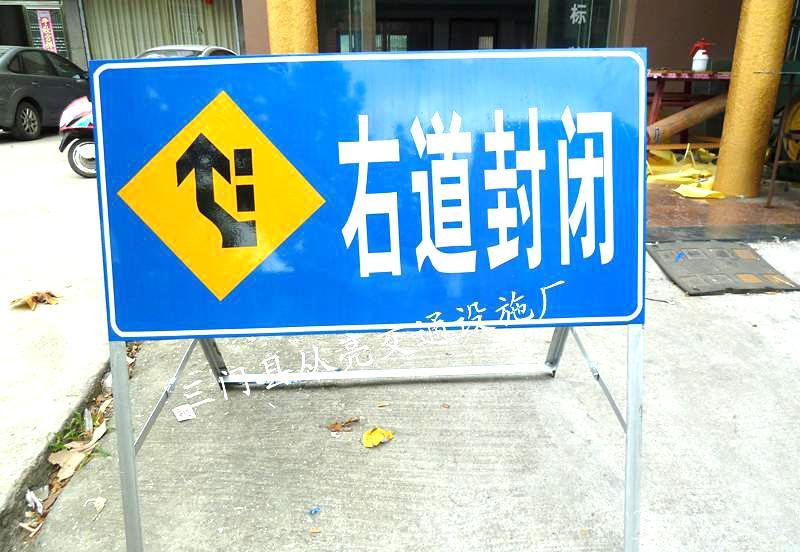sign: (92, 59, 650, 339)
